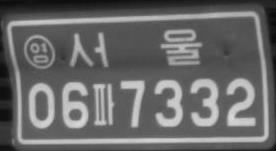0: (27, 81, 55, 129)
2: (225, 77, 257, 126)
3: (153, 78, 183, 128), (190, 77, 220, 127)
6: (60, 80, 89, 129)
7: (120, 78, 145, 128)
서울_D: (69, 28, 201, 68)
영: (23, 34, 56, 70)
파: (92, 82, 114, 126)
